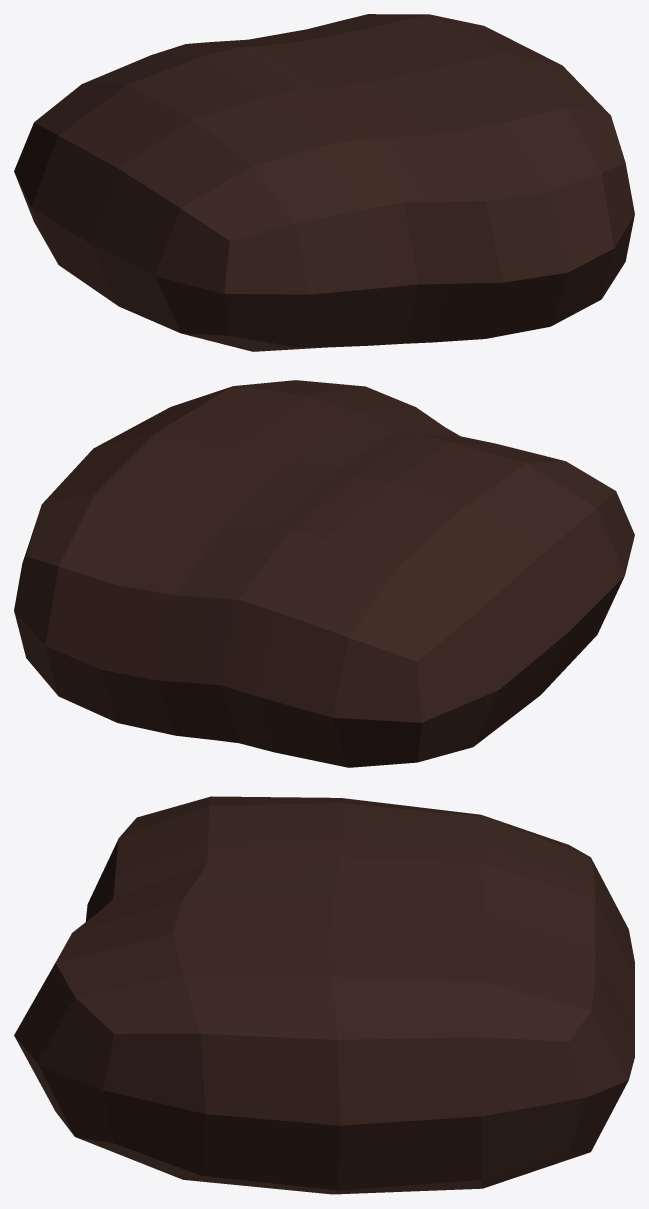
File: asteroid-step.glb
3 renders of one model, top to bottom at view 1: azimuth 30°, elevation 25°; view 2: azimuth 150°, elevation 25°; view 3: azimuth 270°, elevation 25°, orthographic. The views are drawn at different scales.
Parts seen in each view (by area): view 1: Cube; view 2: Cube; view 3: Cube.
Boxes of the visible parts, x1,y1,x2,y2 form: Cube: (14, 14, 634, 351); Cube: (14, 380, 634, 767); Cube: (14, 796, 634, 1194).
Bounding box in the file's own units: 2.17 × 0.9163 × 2.15.
